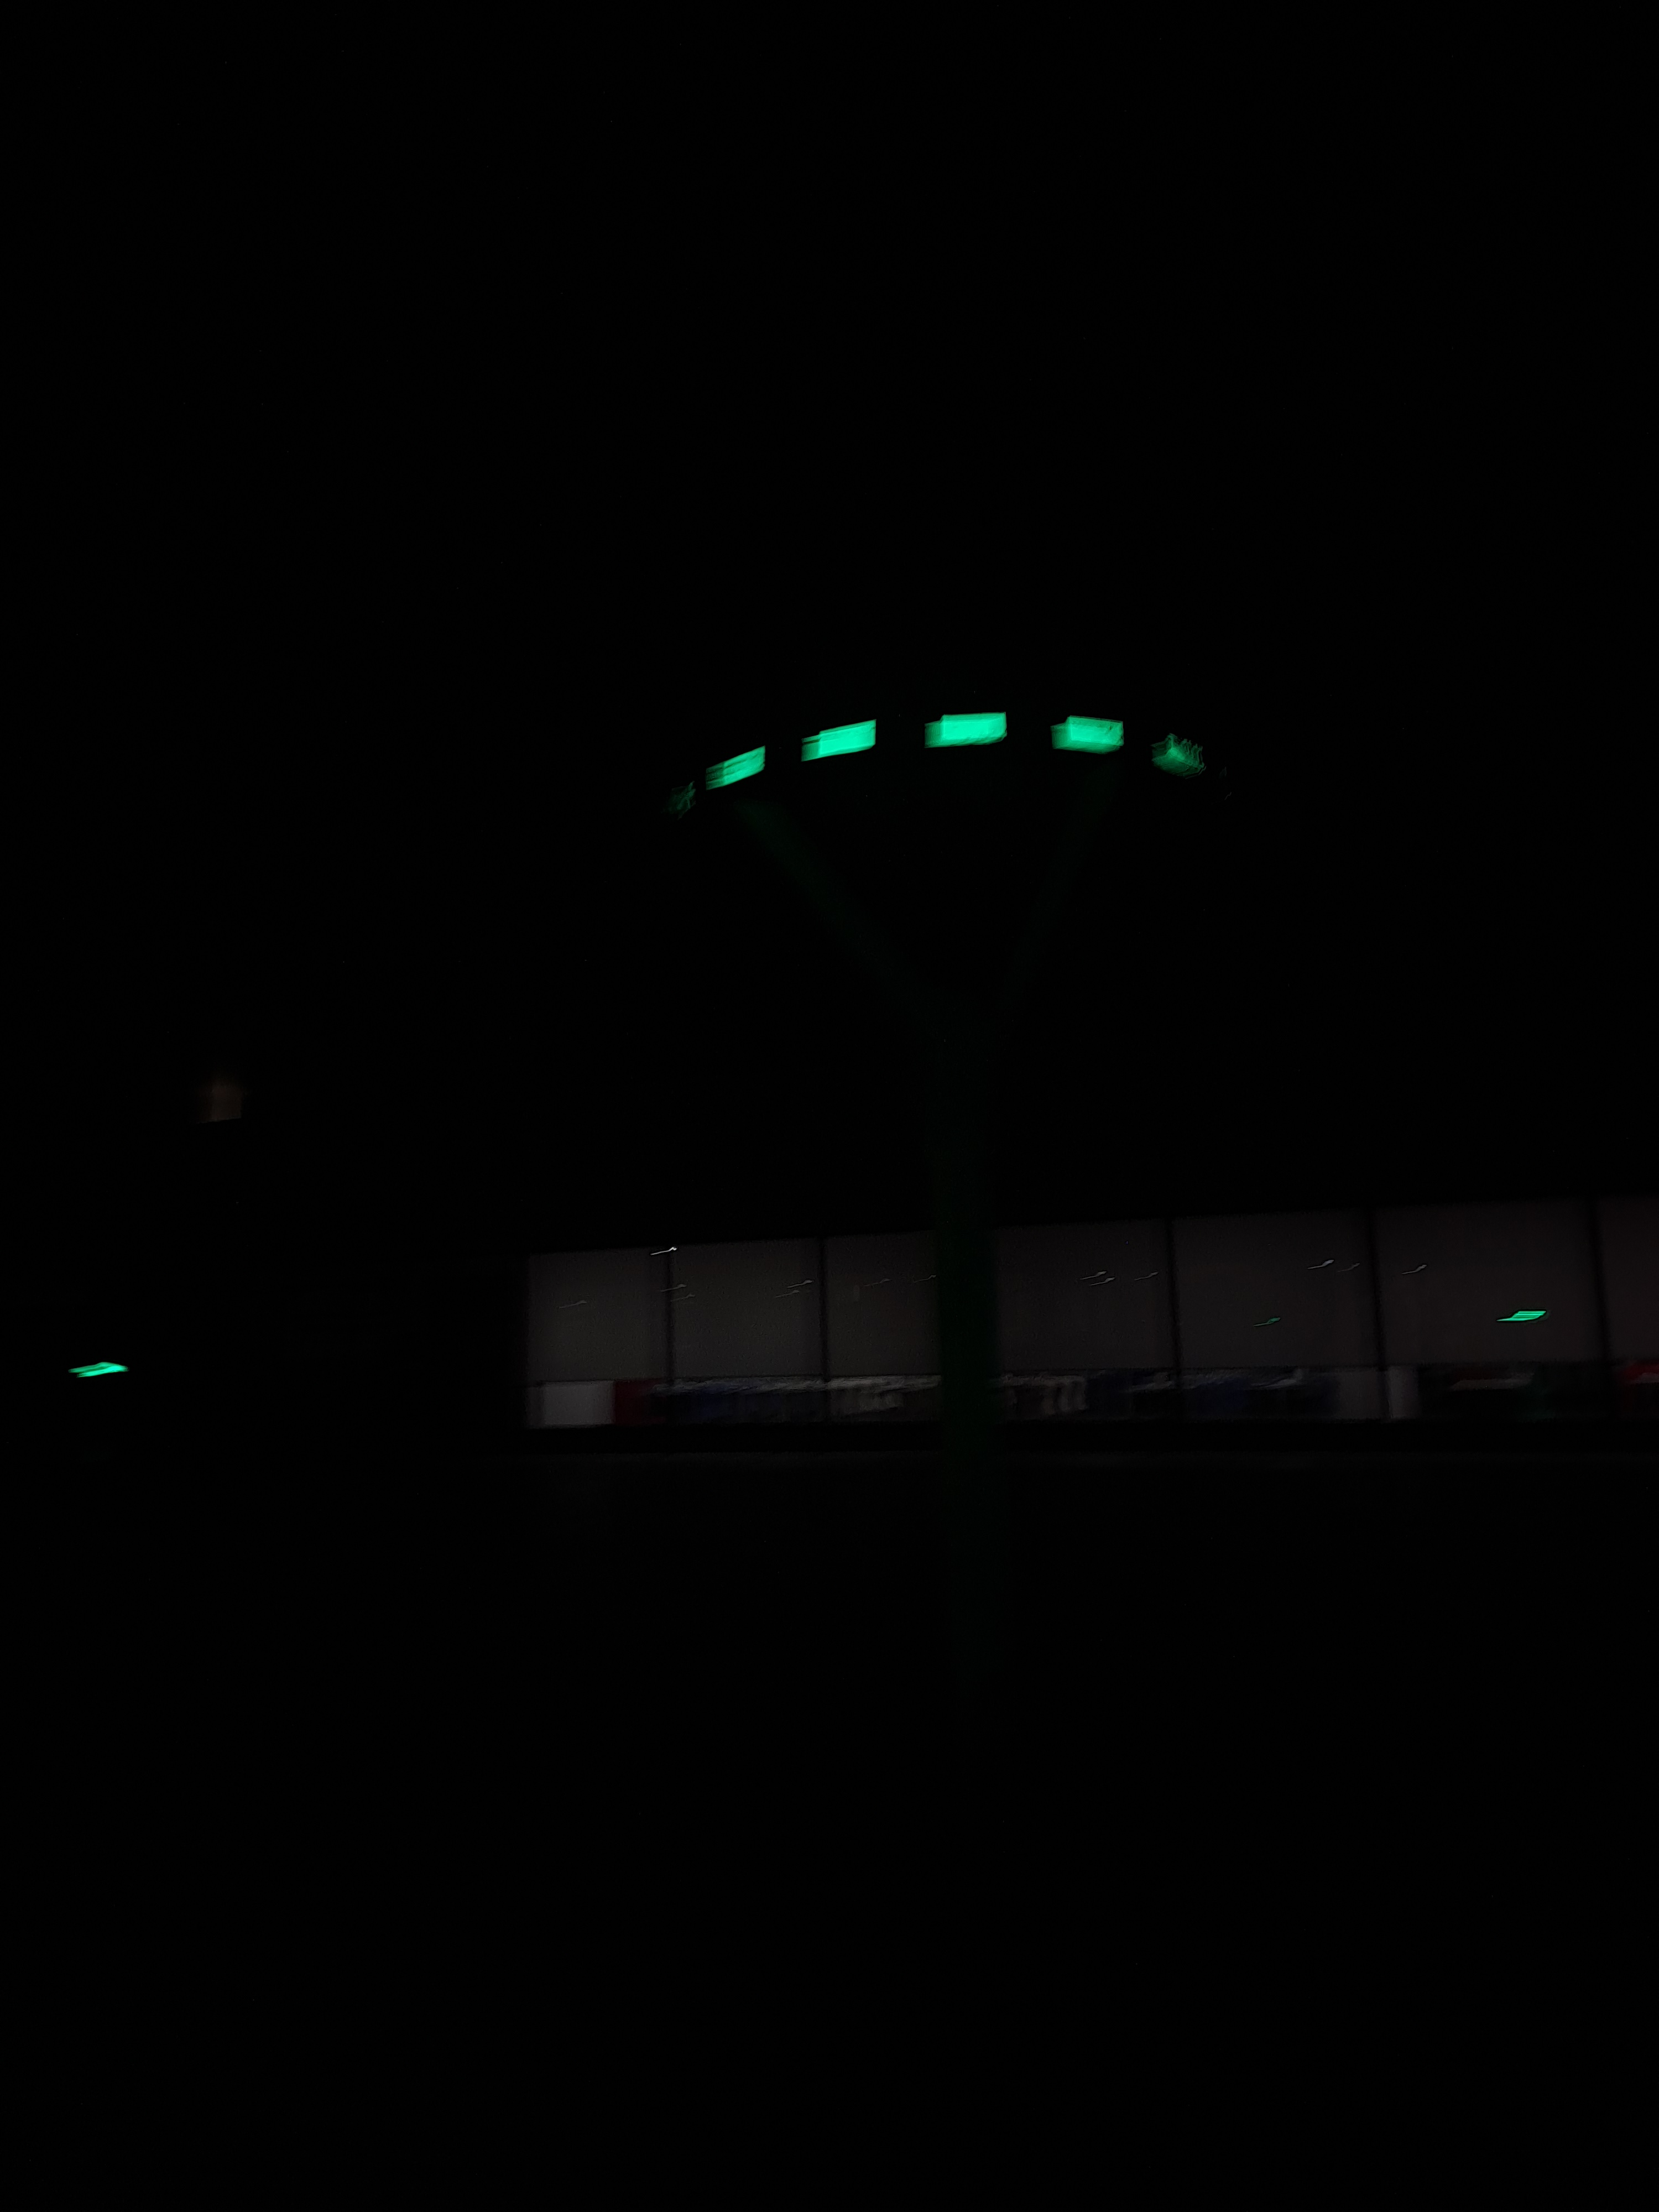hoop: (699, 702, 1148, 787)
